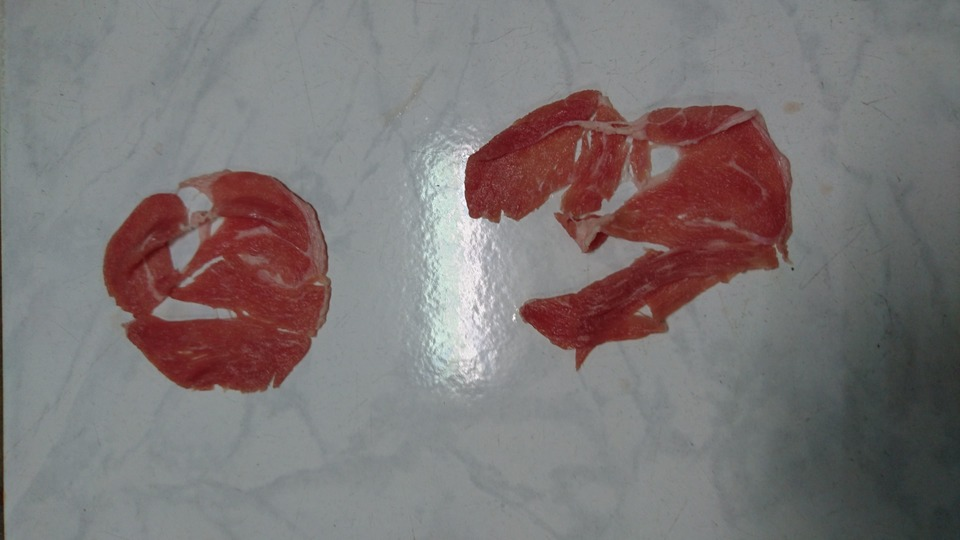restructured meat: (443, 82, 813, 365), (84, 157, 361, 409)
